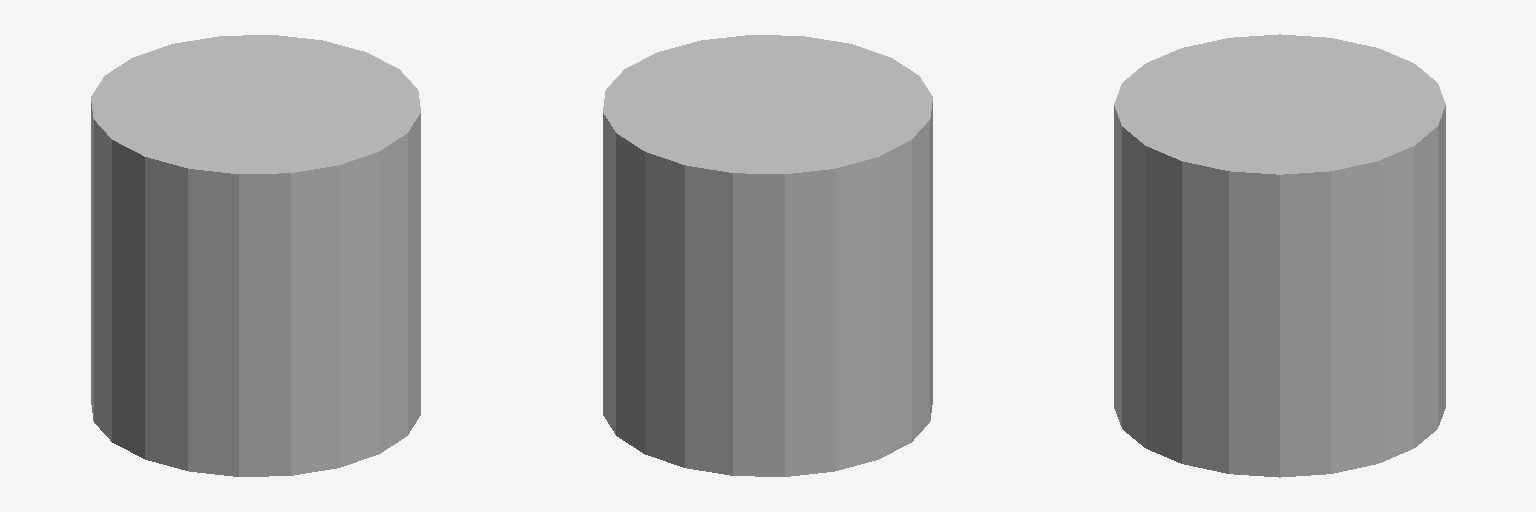
Rendered from Cylinder_Med.obj.
3 views of the same model, side by side, from view 1: azimuth 30°, elevation 25°; view 2: azimuth 150°, elevation 25°; view 3: azimuth 270°, elevation 25° (orthographic).
Visible parts, largest first — view 1: pCylinder1; view 2: pCylinder1; view 3: pCylinder1.
Part boxes in pixels (x1,y1,x2,y2): pCylinder1: (91, 35, 420, 476); pCylinder1: (603, 35, 932, 476); pCylinder1: (1114, 34, 1445, 477).
Size of the model in its own units: 10 by 10.06 by 10.